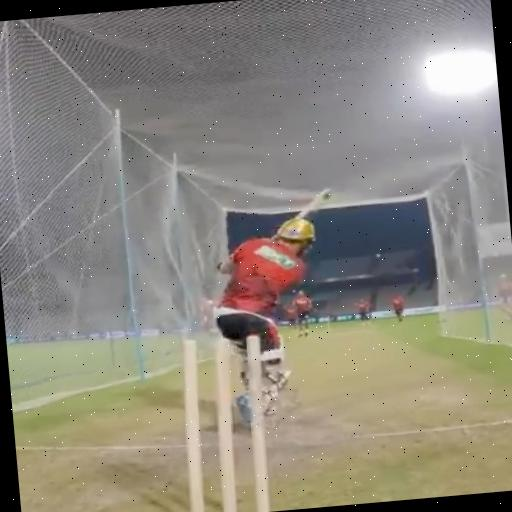Cricket bat: (295, 190, 330, 217)
